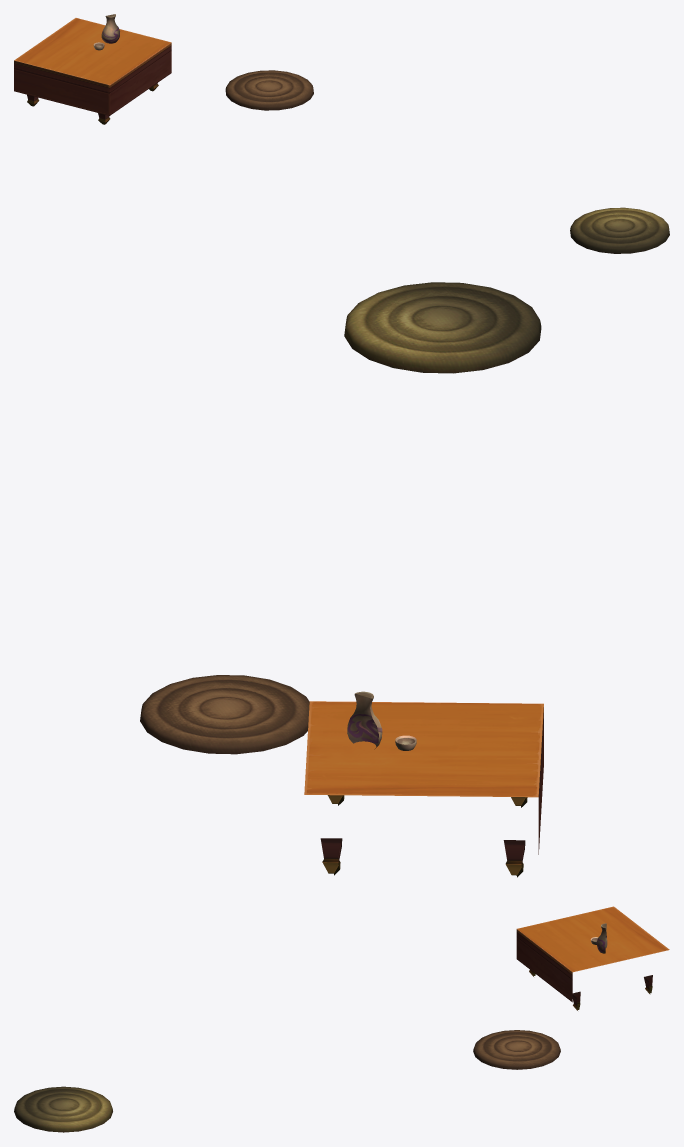
The model's file is fbx_jisitading_qiang_09.FBX.
3 renders of one model, top to bottom at view 1: azimuth 30°, elevation 25°; view 2: azimuth 150°, elevation 25°; view 3: azimuth 270°, elevation 25°, orthographic. The views are drawn at different scales.
Parts seen in each view (by area): view 1: fbx_jisitading_qiang_09; view 2: fbx_jisitading_qiang_09; view 3: fbx_jisitading_qiang_09.
Boxes of the visible parts, box(x1,y1,x2,y2) form: fbx_jisitading_qiang_09: box(14, 14, 669, 253); fbx_jisitading_qiang_09: box(140, 282, 543, 877); fbx_jisitading_qiang_09: box(14, 906, 669, 1132).
Size of the model in its own units: 361 by 68.79 by 561.
